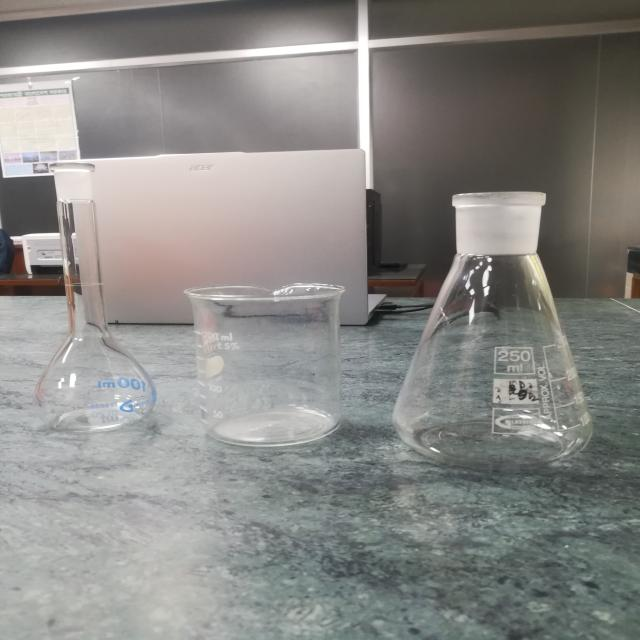Beaker: (179, 271, 373, 460)
Conical_Flask: (385, 189, 619, 479)
Volumetric_Flask: (24, 141, 168, 453)
